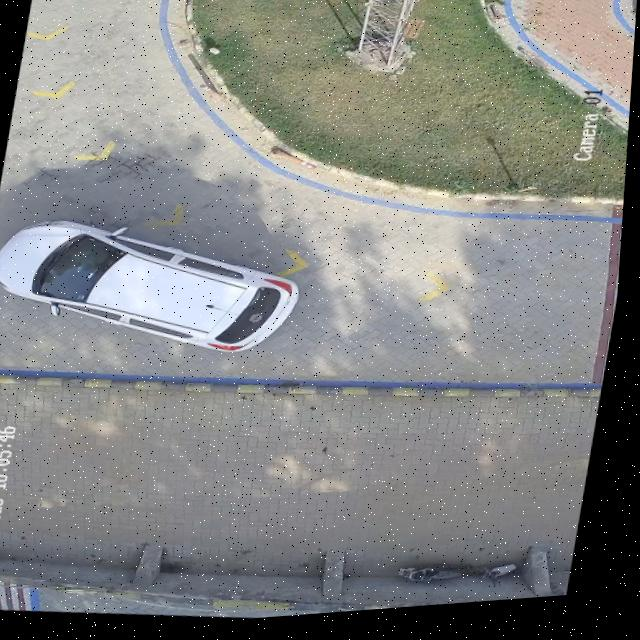car: (0, 219, 305, 357)
